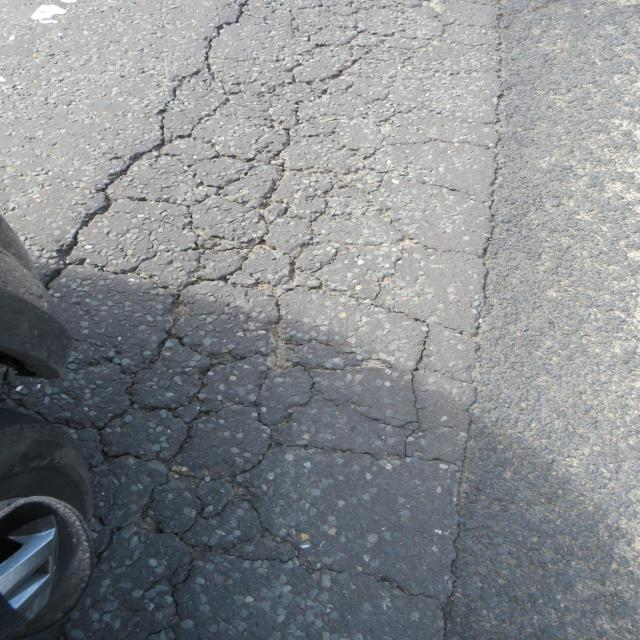Drain Hole: (158, 116, 358, 359)
Pothole: (154, 53, 640, 639)
